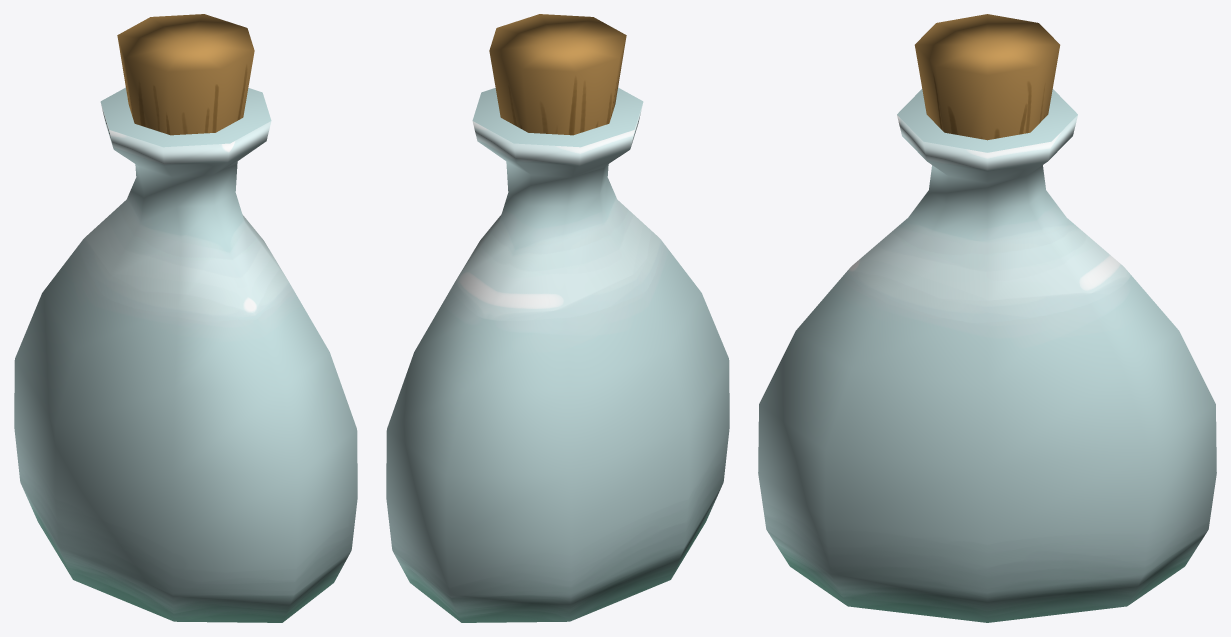
File: bottle1.obj
3 views of the same model, side by side, from view 1: azimuth 30°, elevation 25°; view 2: azimuth 150°, elevation 25°; view 3: azimuth 270°, elevation 25° (orthographic). The views are drawn at different scales.
Parts seen in each view (by area): view 1: bottle1; view 2: bottle1; view 3: bottle1.
Boxes of the visible parts, x1,y1,x2,y2 form: bottle1: [14, 14, 357, 622]; bottle1: [386, 14, 729, 622]; bottle1: [758, 14, 1216, 622].
Bounding box in the file's own units: 4.96 × 9.21 × 7.33.
